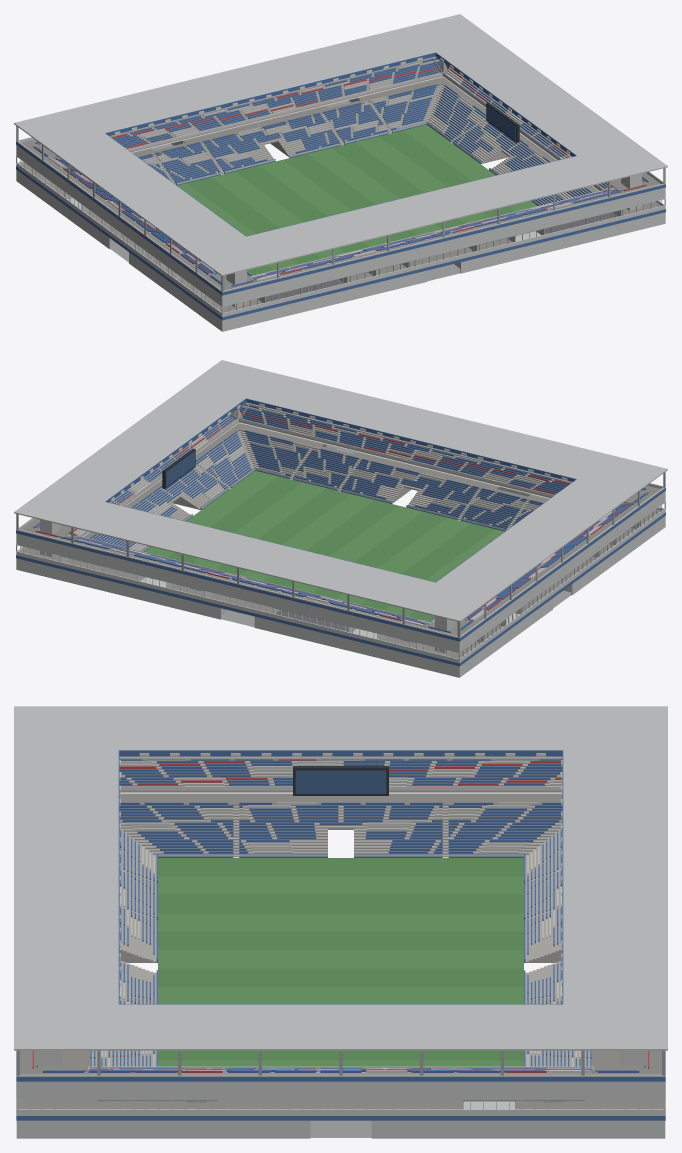
The model's file is arena.zfix-v13.lod0.glb.
3 renders of one model, top to bottom at view 1: azimuth 30°, elevation 25°; view 2: azimuth 150°, elevation 25°; view 3: azimuth 270°, elevation 25°, orthographic. The views are drawn at different scales.
Parts seen in each view (by area): view 1: arena; view 2: arena; view 3: arena.
Part boxes in pixels (<box>): arena: <box>14,14,667,331</box>; arena: <box>14,360,667,677</box>; arena: <box>14,706,667,1138</box>.
Bounding box in the file's own units: 186 × 23.1 × 150.
